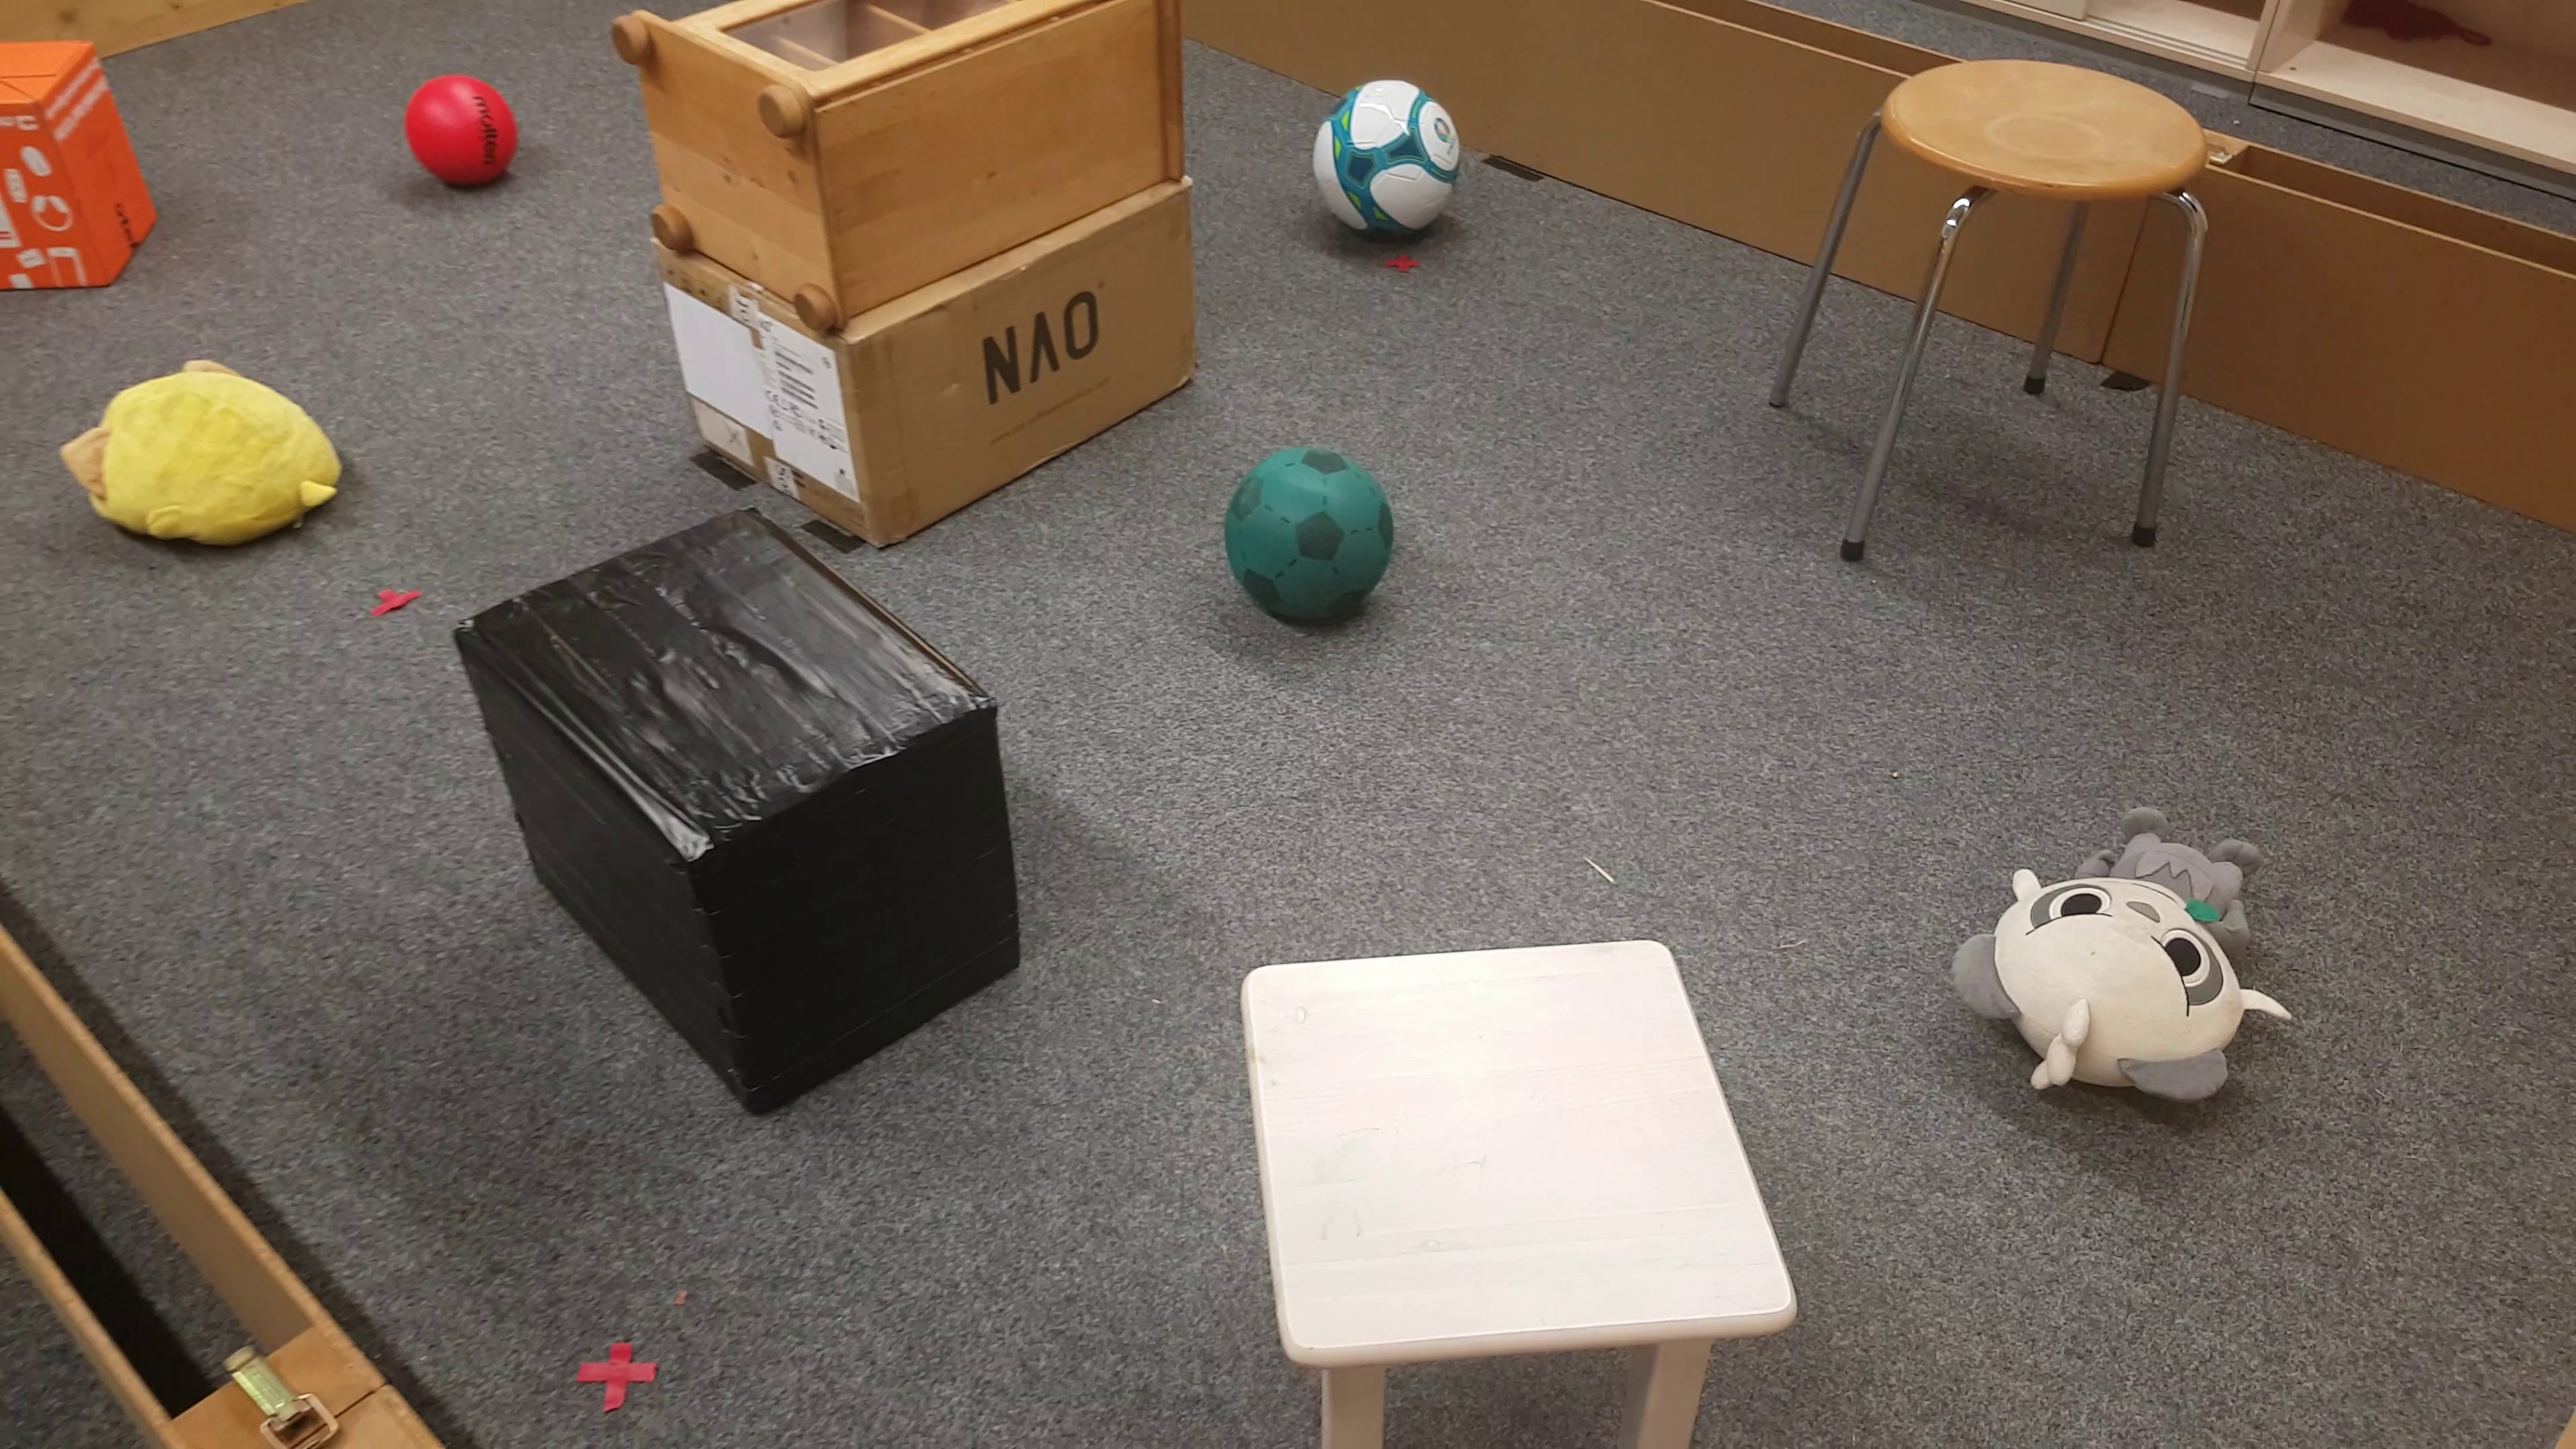grasp: (1948, 800, 2291, 1118), (57, 354, 349, 541)
kick: (1223, 446, 1401, 628), (1313, 71, 1463, 251), (403, 69, 518, 189)
push: (453, 515, 1021, 1113), (0, 35, 157, 299)
